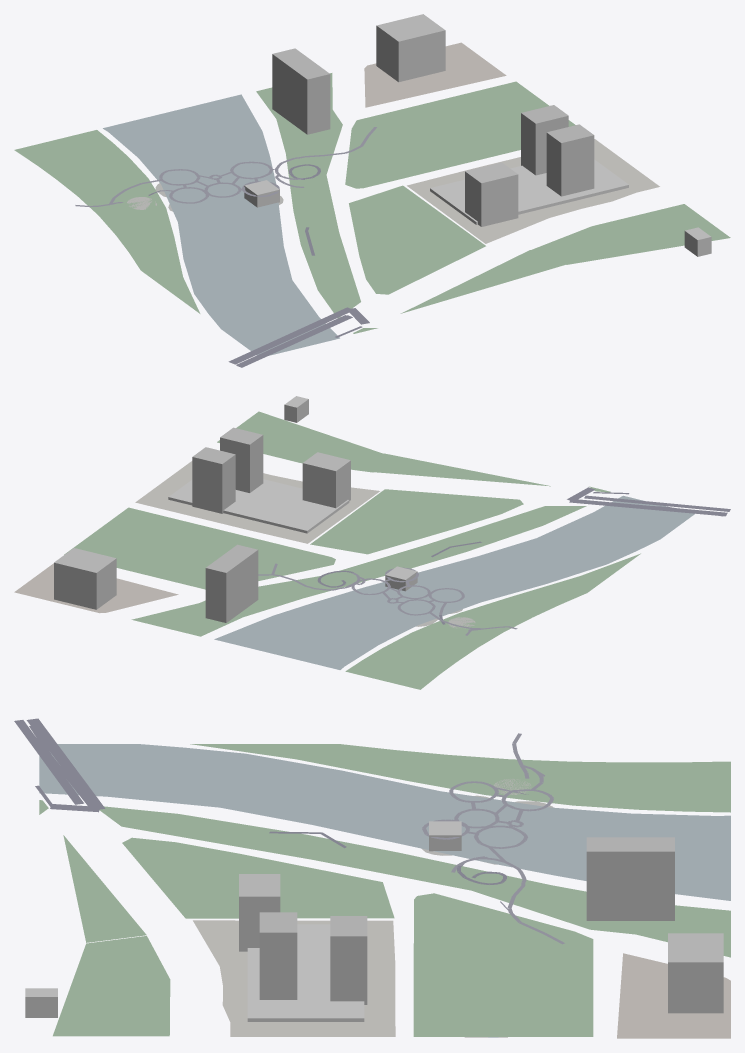
Rendered from 122_84_mid.glb.
3 renders of one model, top to bottom at view 1: azimuth 30°, elevation 25°; view 2: azimuth 150°, elevation 25°; view 3: azimuth 270°, elevation 25°, orthographic. The views are drawn at different scales.
Bounding box in the file's own units: 534 × 57.89 × 518.
